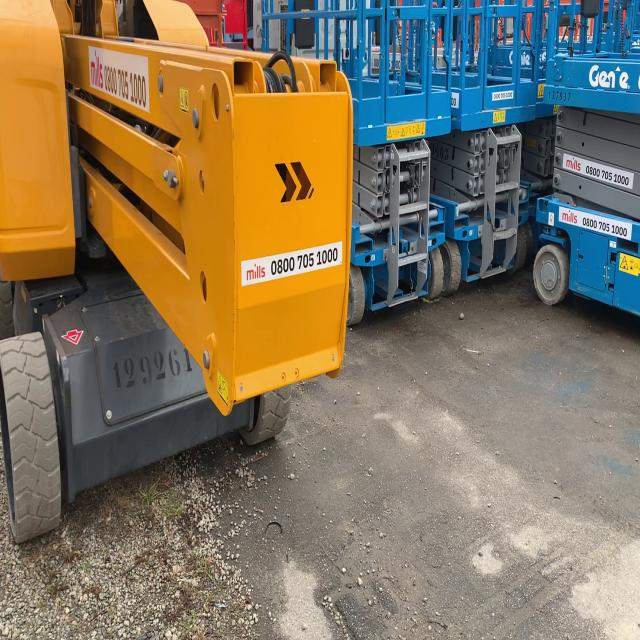Adesivo Longo: (241, 239, 343, 289), (88, 45, 151, 115), (558, 205, 633, 242), (562, 152, 635, 190)
